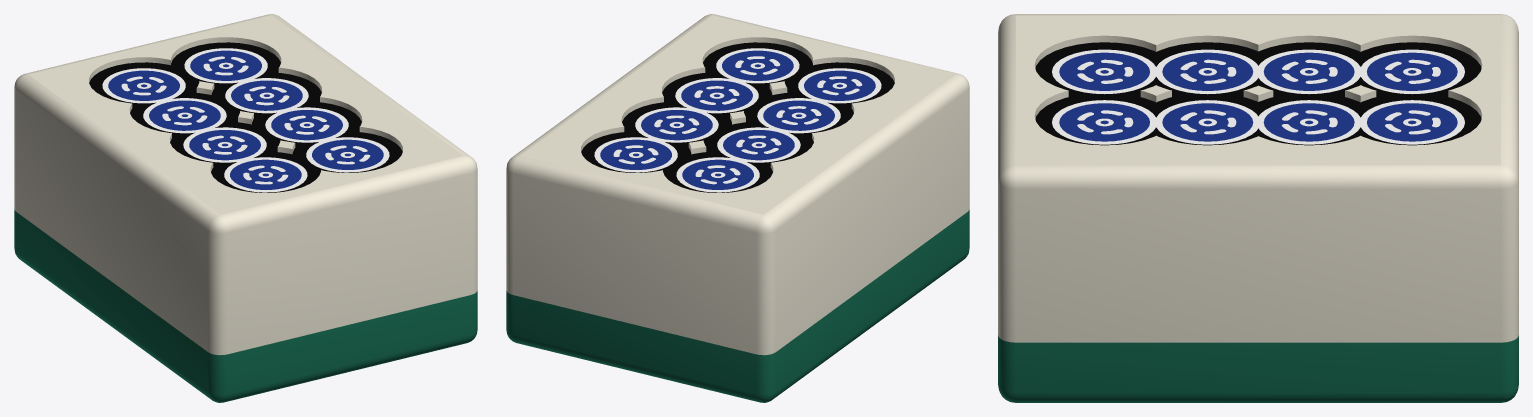
Rendered from Pin8.glb.
3 views of the same model, side by side, from view 1: azimuth 30°, elevation 25°; view 2: azimuth 150°, elevation 25°; view 3: azimuth 270°, elevation 25° (orthographic). The views are drawn at different scales.
Parts seen in each view (by area): view 1: Pin8_body, Pin8_inset; view 2: Pin8_body, Pin8_inset; view 3: Pin8_body, Pin8_inset.
Boxes of the visible parts, x1,y1,x2,y2 form: Pin8_body: (14, 14, 477, 402); Pin8_inset: (89, 42, 402, 192); Pin8_body: (506, 14, 969, 402); Pin8_inset: (581, 42, 894, 192); Pin8_body: (998, 14, 1518, 402); Pin8_inset: (1035, 42, 1481, 145).
Bounding box in the file's own units: 0.024 × 0.016 × 0.032.
